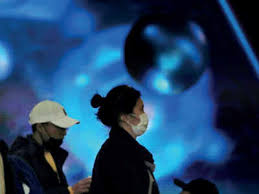mask: (125, 93, 149, 138), (39, 121, 67, 150)
